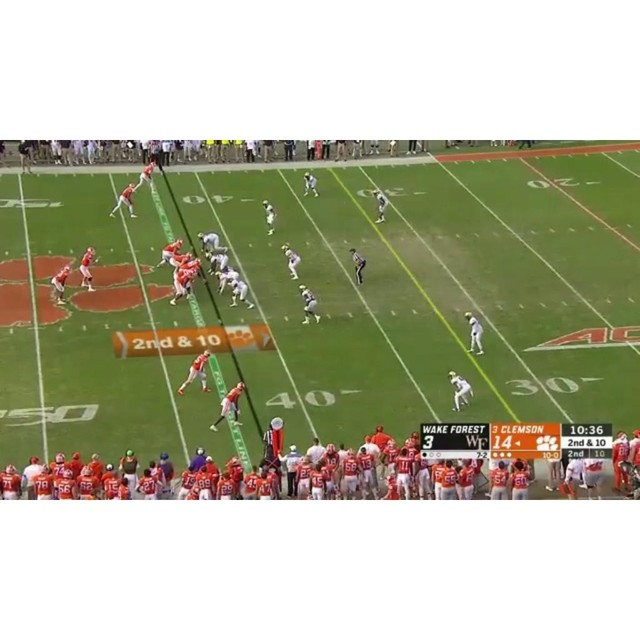american-football-player: (209, 380, 247, 431), (176, 349, 212, 395), (108, 182, 138, 219), (169, 268, 197, 306), (448, 370, 473, 412), (464, 311, 485, 355), (228, 274, 254, 309), (78, 246, 97, 291), (51, 264, 72, 304), (299, 284, 320, 324), (157, 237, 184, 268), (281, 244, 302, 280), (136, 159, 158, 193), (197, 232, 226, 256), (205, 250, 230, 276), (372, 188, 388, 224), (261, 199, 277, 235), (303, 171, 320, 198)
referee: (349, 247, 366, 286)
